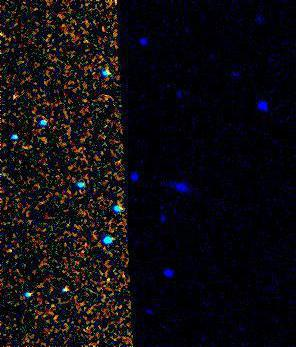star: (91, 264, 121, 294)
